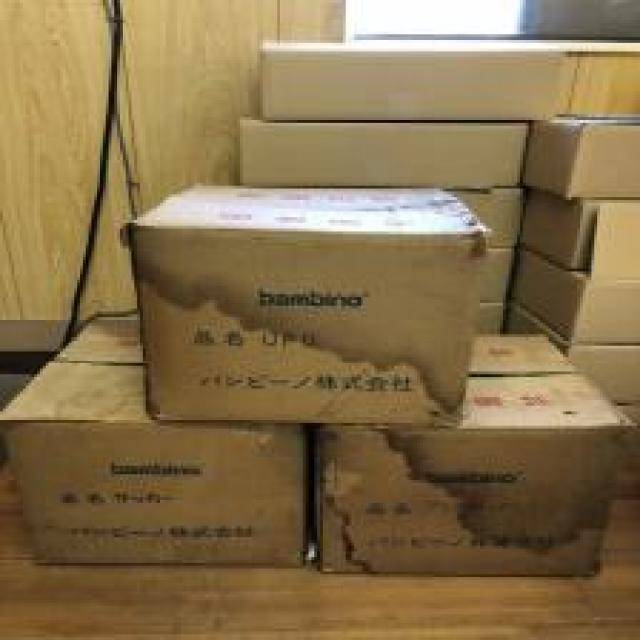opened: (131, 223, 470, 410), (321, 422, 612, 580)
